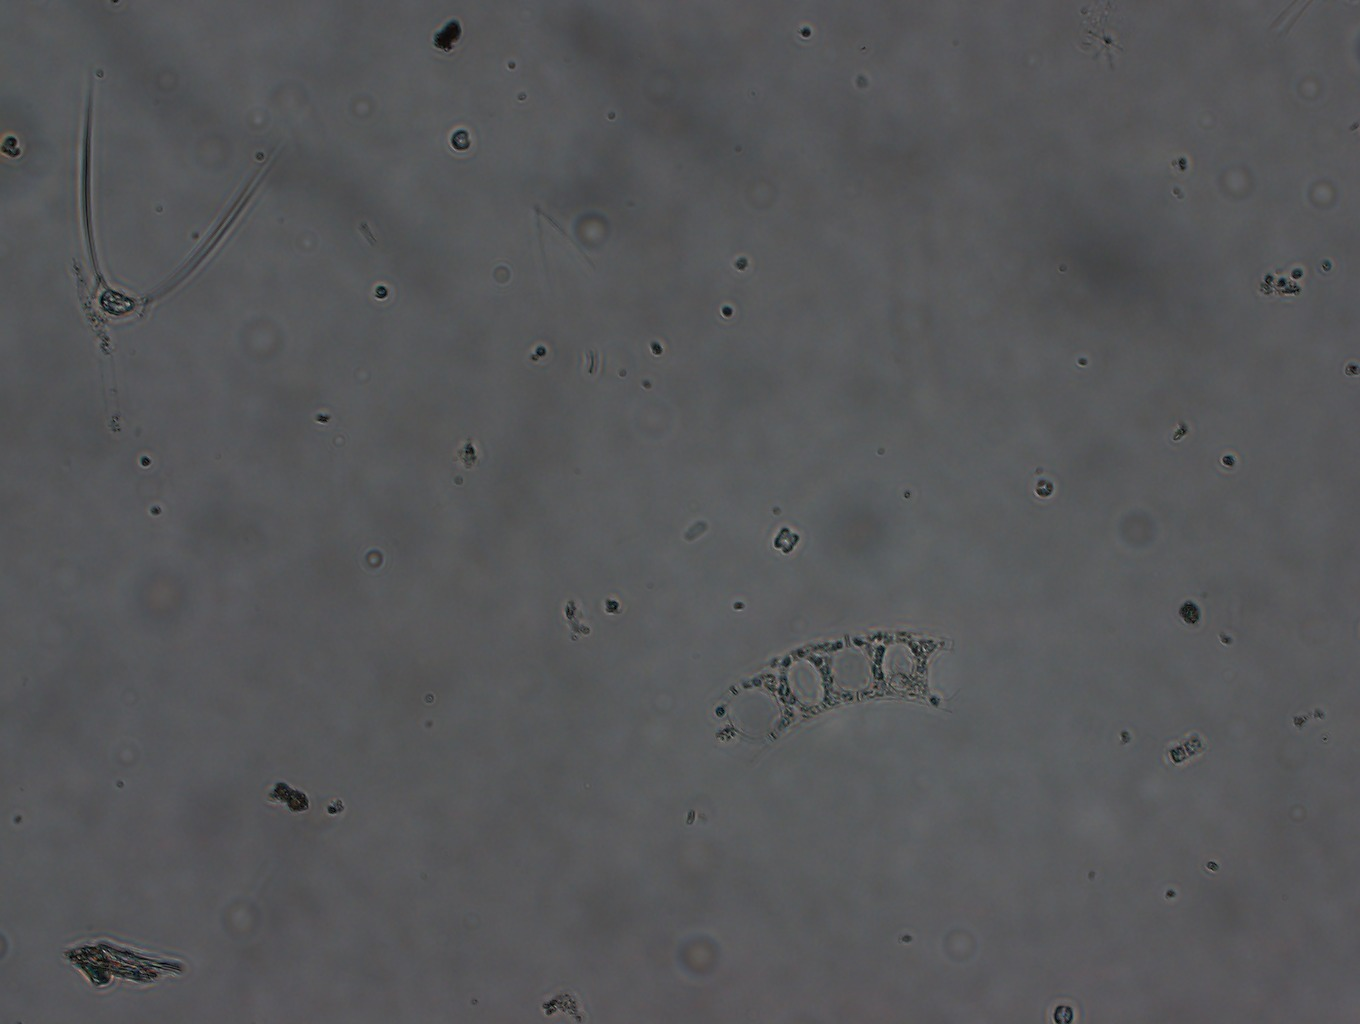chaetoceros: (65, 76, 264, 339)
eucampia: (702, 611, 957, 762)
